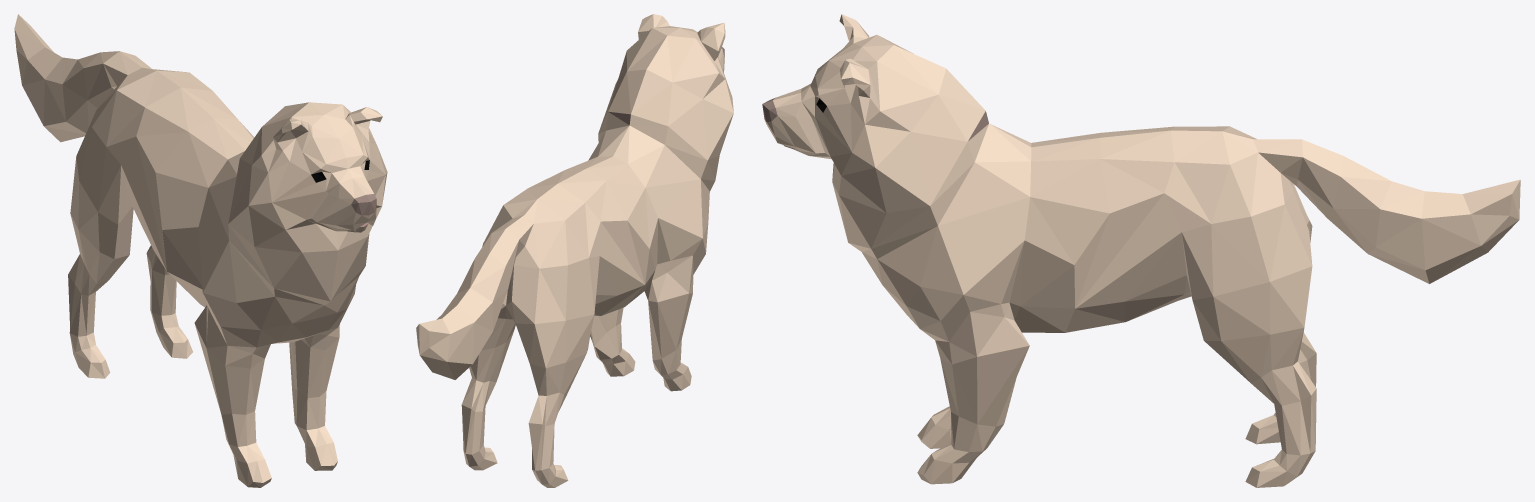
File: quadruped_chow.gltf
The picture shows the model from 3 angles, left to right: view 1: azimuth 30°, elevation 25°; view 2: azimuth 150°, elevation 25°; view 3: azimuth 270°, elevation 25°; orthographic projection. The views are drawn at different scales.
Parts seen in each view (by area): view 1: chow_colorMap; view 2: chow_colorMap; view 3: chow_colorMap.
Part boxes in pixels (bbox=[...]): chow_colorMap: bbox=[14, 14, 387, 487]; chow_colorMap: bbox=[416, 14, 733, 487]; chow_colorMap: bbox=[762, 14, 1520, 487].
Size of the model in its own units: 32.87 by 83.59 by 135.
